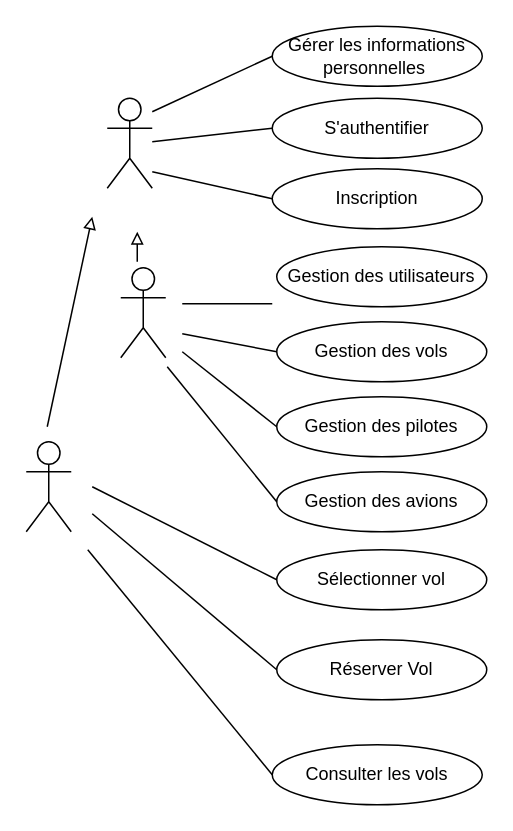
This 513x831 diagram has some shape labels left out. The shapes that lost their labels are listed below. From the top down, each one's centre as x and y in pixels, then its label:
pixel 129 142: User
pixel 142 312: Administrateur
pixel 48 486: Client
